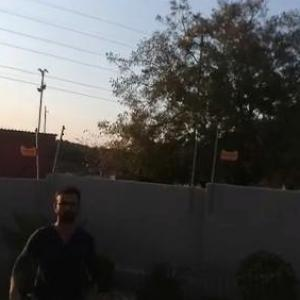follow: (1, 179, 104, 299)
